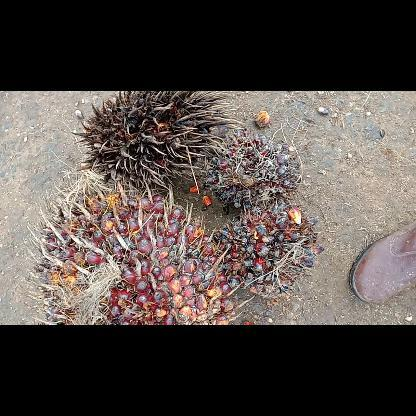Janjang kosong: (68, 90, 244, 196)
TBS abnormal: (211, 206, 327, 300), (195, 133, 305, 209)
TBS masak: (22, 174, 238, 324)
